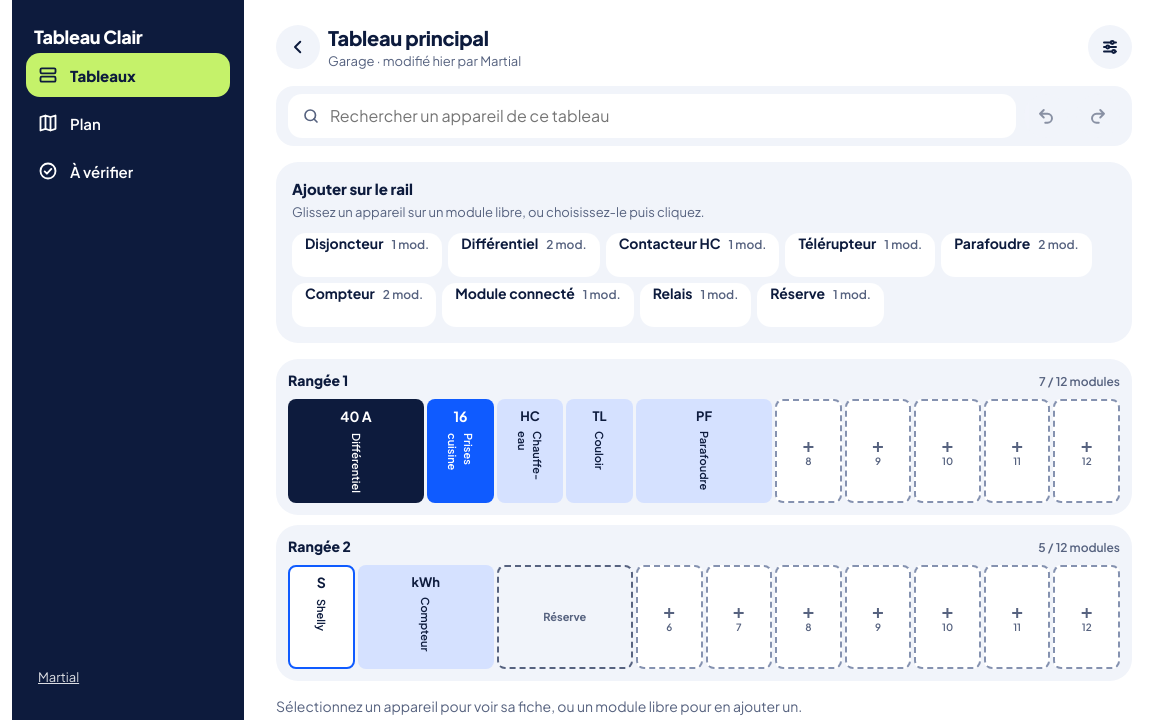
it: éditeur de rail — sélection › liste, dans la fiche d’un disjoncteur, les équipements alimentés par étage et pièce
Click the button "16 Prises cuisine": (460, 451) [427, 399, 494, 503]
(page scrolled)
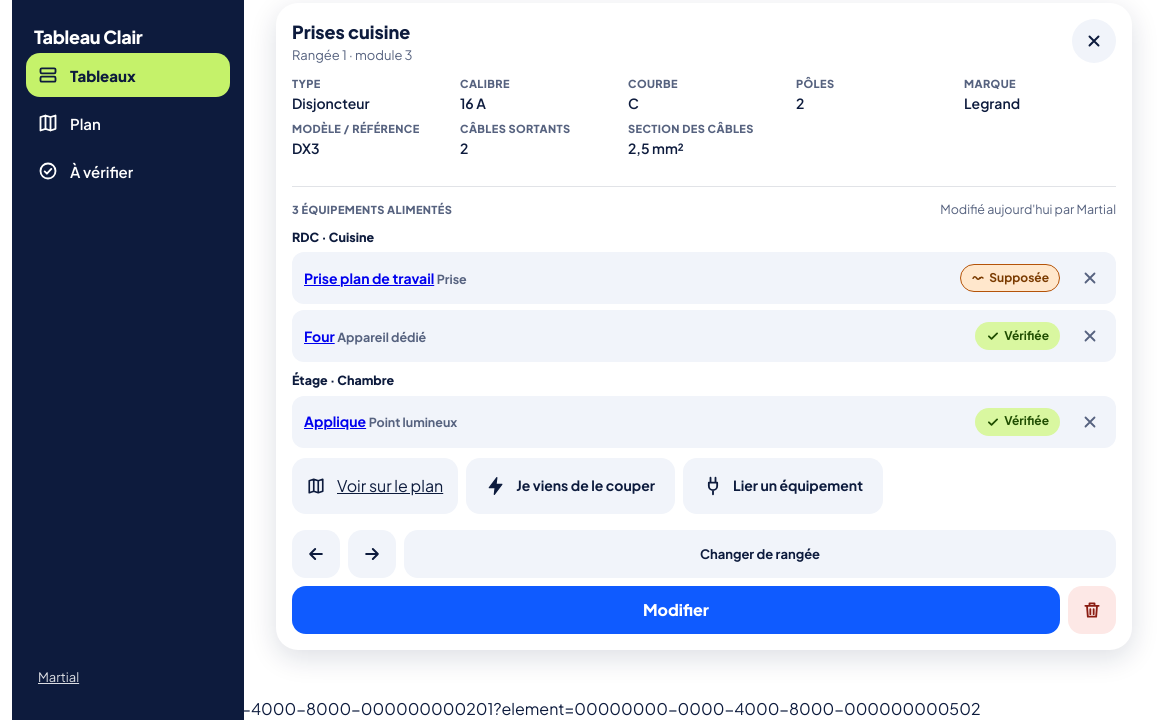
Check: the element named "Circuit alimenté" shows "3 équipements alimentés", box [292, 203, 452, 216]
Check: the element named "Circuit alimenté" shows "RDC · Cuisine", box [292, 186, 1116, 514]
Check: the element named "Circuit alimenté" shows "Étage · Chambre", box [292, 186, 1116, 514]
